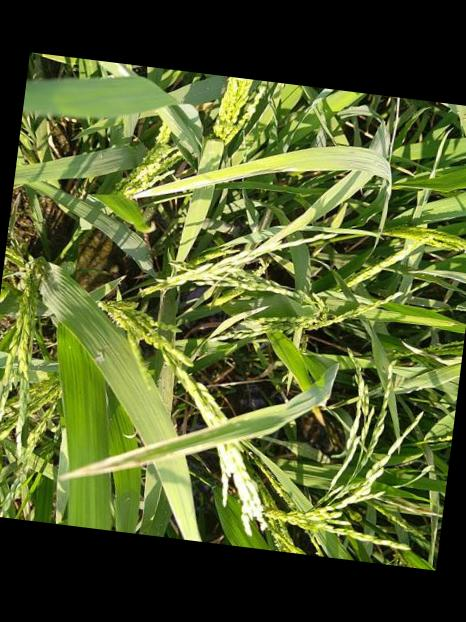Leaf Streak: (58, 385, 324, 479), (136, 164, 262, 198)
